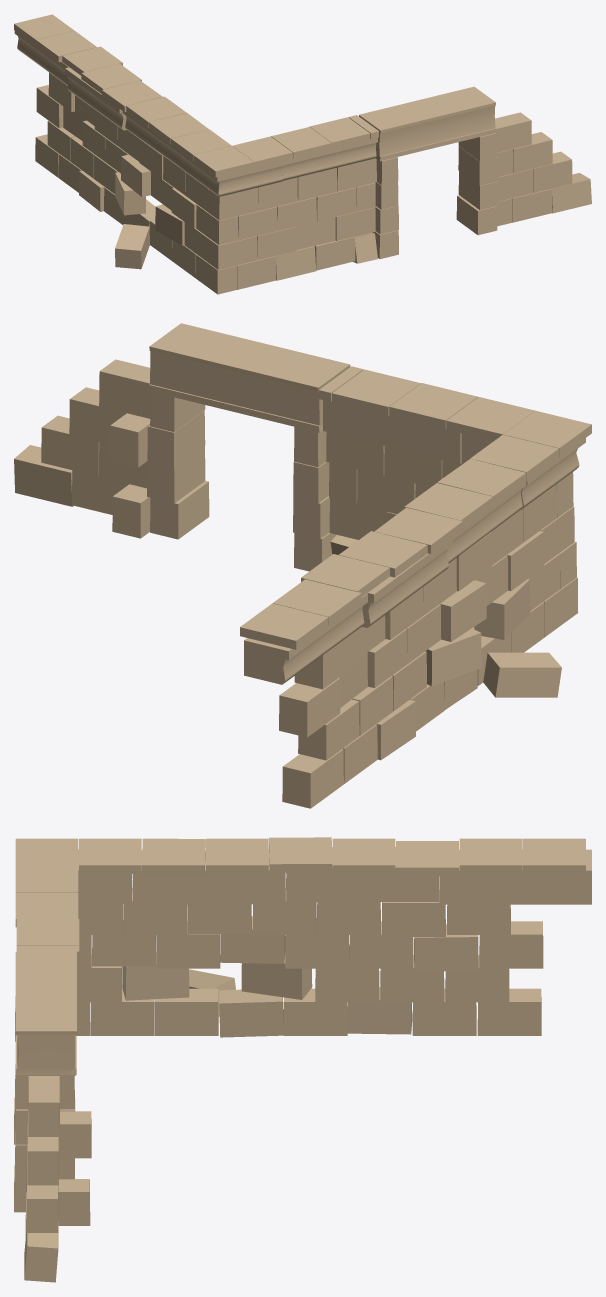
The model's file is egypt_temple.fbx.
The picture shows the model from 3 angles, top to bottom: view 1: azimuth 30°, elevation 25°; view 2: azimuth 150°, elevation 25°; view 3: azimuth 270°, elevation 25°; orthographic projection. The views are drawn at different scales.
Visible parts, largest first — view 1: pCube75, pCube38, pCube43, pCube16, pCube11, pCube56, pCube40, pCube19, pCube67, pCube72, pCube73, pCube74 (+67 smaller); view 2: pCube75, pCube43, pCube101, pCube16, pCube100, pCube98, pCube40, pCube102, pCube67, pCube74, pCube73, pCube64 (+58 smaller); view 3: pCube75, pCube101, pCube39, pCube40, pCube8, pCube7, pCube98, pCube100, pCube32, pCube94, pCube6, pCube103 (+41 smaller).
Part boxes in pixels (box(x1,y1,x2,y2)): pCube75: box(359, 86, 496, 161); pCube38: box(177, 149, 284, 196); pCube43: box(282, 137, 377, 180); pCube16: box(115, 224, 149, 269); pCube11: box(207, 236, 257, 269); pCube56: box(193, 146, 254, 177); pCube40: box(65, 67, 126, 130); pCube19: box(208, 187, 258, 220); pCube67: box(495, 112, 531, 152); pCube72: box(513, 132, 552, 173); pCube73: box(533, 151, 572, 192); pCube74: box(552, 173, 591, 213); pCube75: box(148, 323, 350, 432); pCube43: box(323, 400, 461, 464); pCube101: box(244, 593, 367, 684); pCube16: box(483, 652, 561, 697); pCube100: box(282, 749, 343, 808); pCube98: box(279, 678, 340, 737); pCube40: box(362, 538, 452, 627); pCube102: box(240, 603, 328, 649); pCube67: box(99, 359, 150, 418); pCube74: box(14, 445, 73, 506); pCube73: box(41, 415, 99, 476); pCube64: box(389, 383, 477, 429); pCube75: box(15, 951, 76, 1074); pCube101: box(439, 849, 591, 904); pCube39: box(132, 849, 285, 904); pCube40: box(286, 847, 438, 902); pCube8: box(219, 989, 283, 1037); pCube7: box(154, 988, 218, 1035); pCube98: box(479, 921, 543, 968); pCube100: box(477, 988, 541, 1035); pCube32: box(283, 988, 347, 1035); pCube94: box(414, 924, 478, 971); pCube6: box(90, 988, 154, 1035); pCube103: box(459, 838, 522, 873).
Size of the model in its own units: 18.26 by 5.56 by 15.42.
